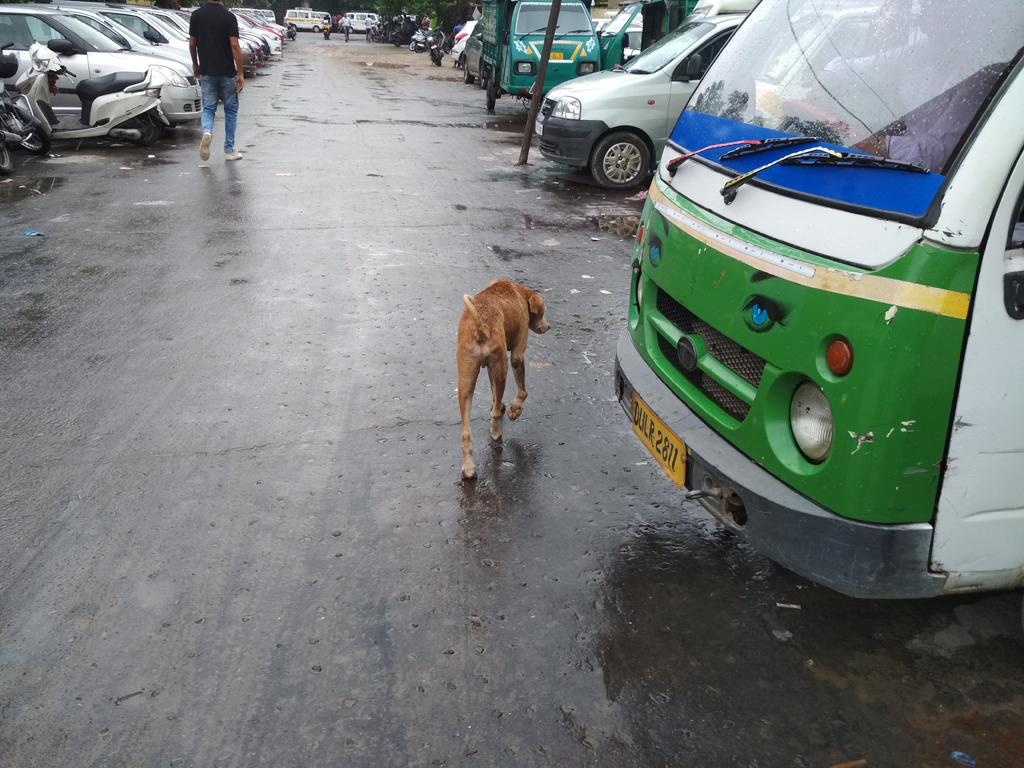dog: (456, 277, 555, 481)
